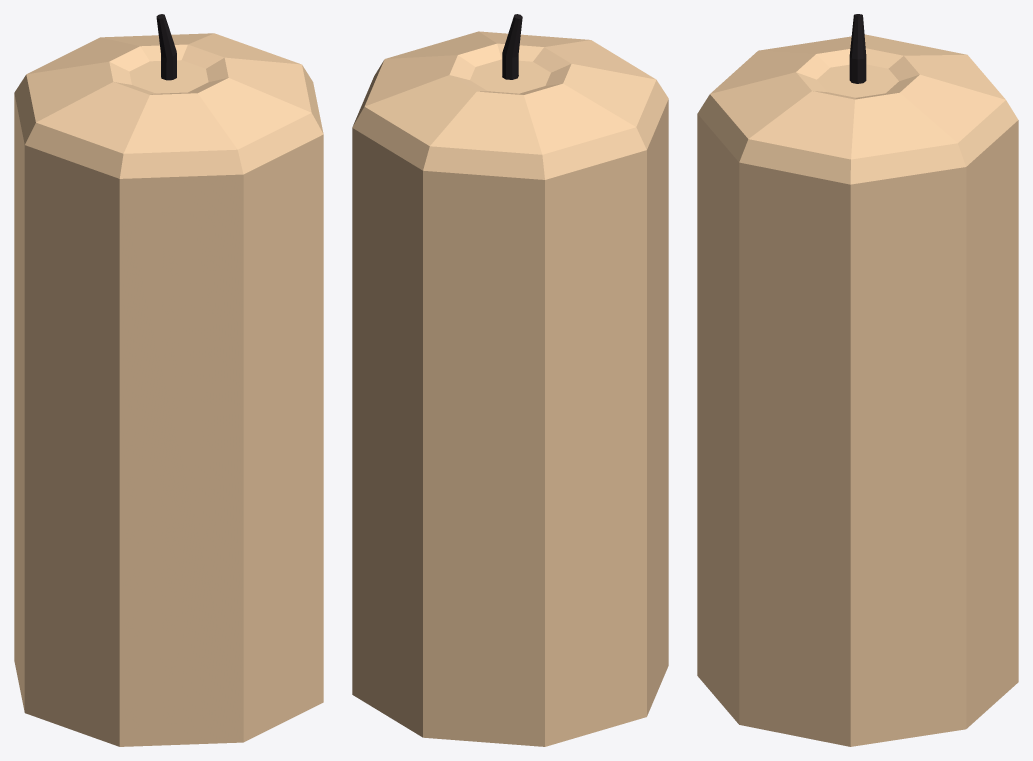
Rendered from LargeCandle.fbx.
3 views of the same model, side by side, from view 1: azimuth 30°, elevation 25°; view 2: azimuth 150°, elevation 25°; view 3: azimuth 270°, elevation 25° (orthographic).
Parts seen in each view (by area): view 1: Large Candle; view 2: Large Candle; view 3: Large Candle.
Part boxes in pixels (x1,y1,x2,y2): Large Candle: (14, 14, 323, 746); Large Candle: (352, 14, 668, 746); Large Candle: (697, 14, 1018, 746).
Size of the model in its own units: 6.79 by 15.43 by 6.79.
